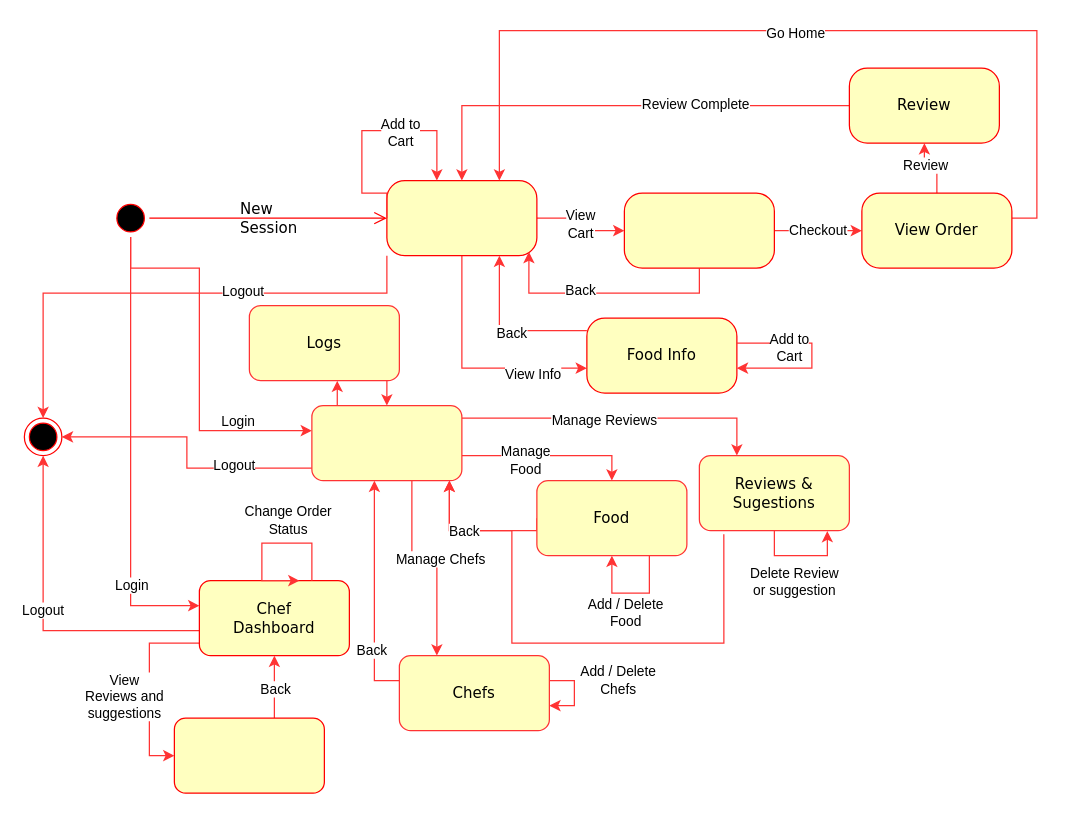
The diagram is 1069 pixels wide and 815 high, and some of its shapes have lost their labels. Each missing label, with the centre of its shape:
"Admin Dashboard" belongs at (x=386, y=442).
"Cart" belongs at (x=698, y=230).
"Homepage" belongs at (x=461, y=217).
"Reviews & Suggestions" belongs at (x=248, y=755).
